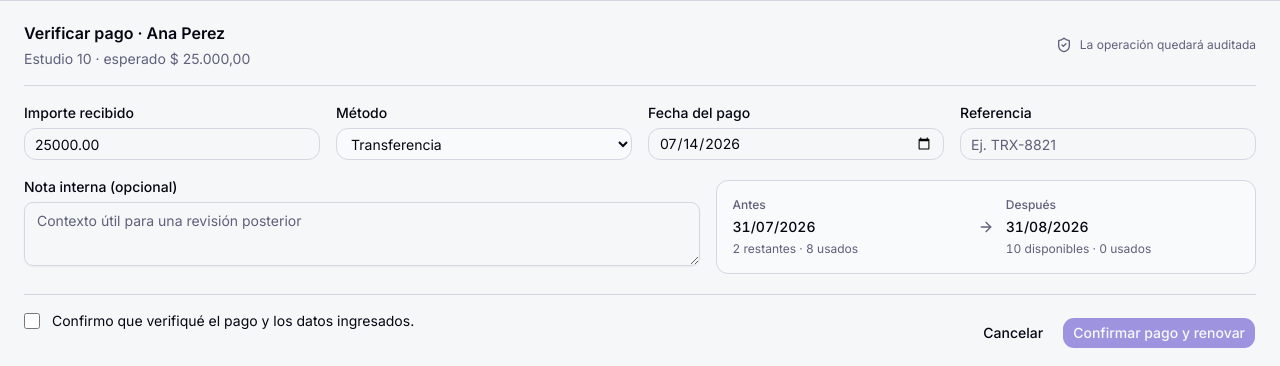
RenewalReviewRow › requiere verificacion explicita y muestra la vista previa
Expected: the text "Antes" is shown, [732, 197, 766, 212]
Expected: the text "Después" is shown, [1006, 197, 1056, 212]
Click the checkbox labelled "Confirmo que verifiqué el pago y los datos ingresados.": [32, 321] box [24, 313, 40, 329]
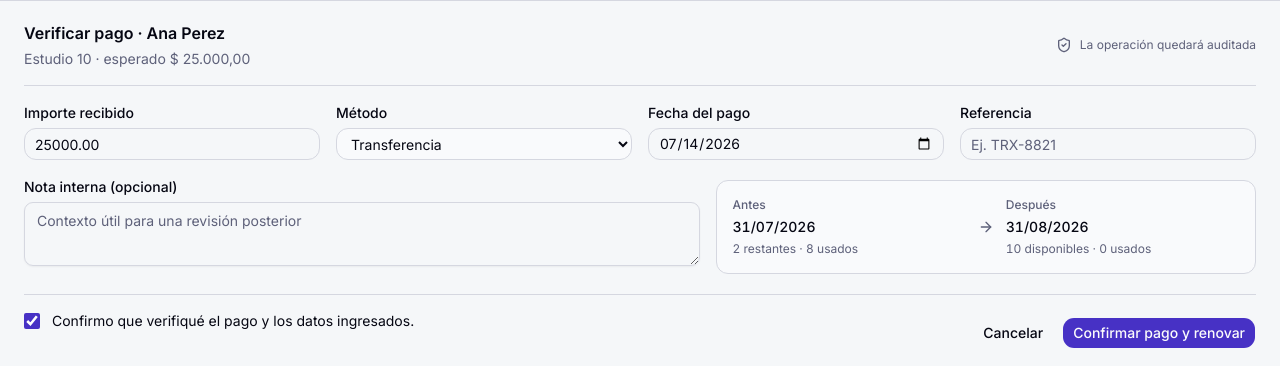
Now the button "Confirmar pago y renovar" is enabled, box [1062, 317, 1256, 349]
